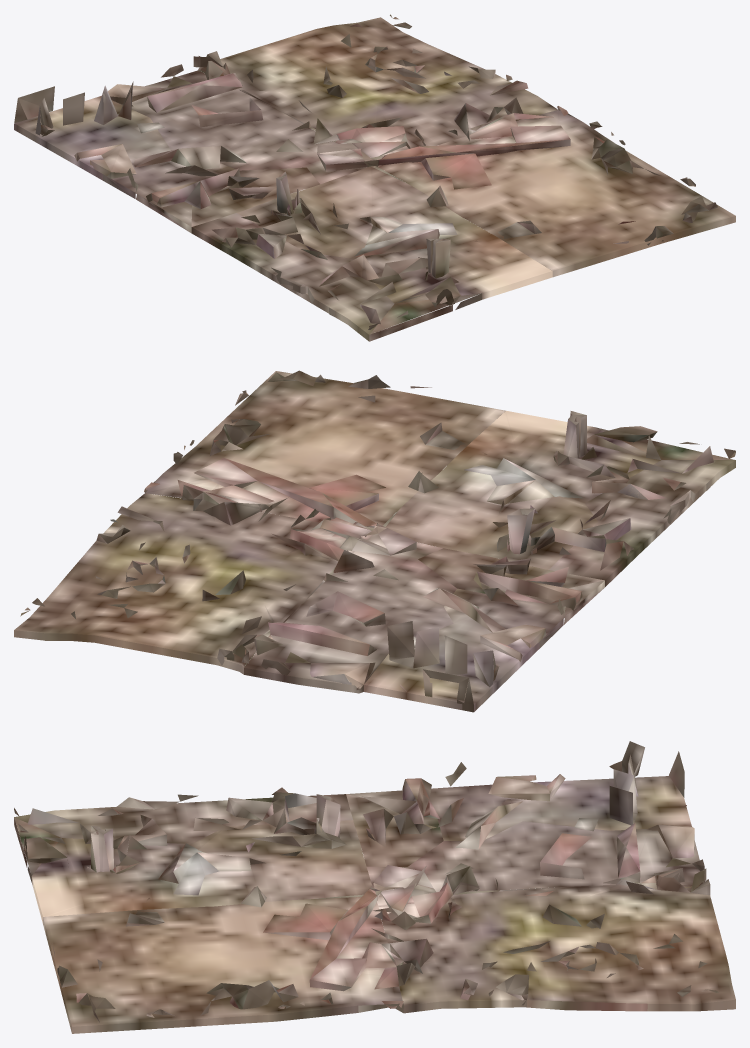
The picture shows the model from 3 angles, top to bottom: view 1: azimuth 30°, elevation 25°; view 2: azimuth 150°, elevation 25°; view 3: azimuth 270°, elevation 25°; orthographic projection. The views are drawn at different scales.
Visible parts, largest first — view 1: Mesh_0; view 2: Mesh_0; view 3: Mesh_0.
Part boxes in pixels (x1,y1,x2,y2): Mesh_0: (14, 14, 735, 341); Mesh_0: (14, 370, 735, 712); Mesh_0: (14, 741, 735, 1033).
Bounding box in the file's own units: 532 × 74.42 × 659.
Materials: 1 (1 with a texture image).
